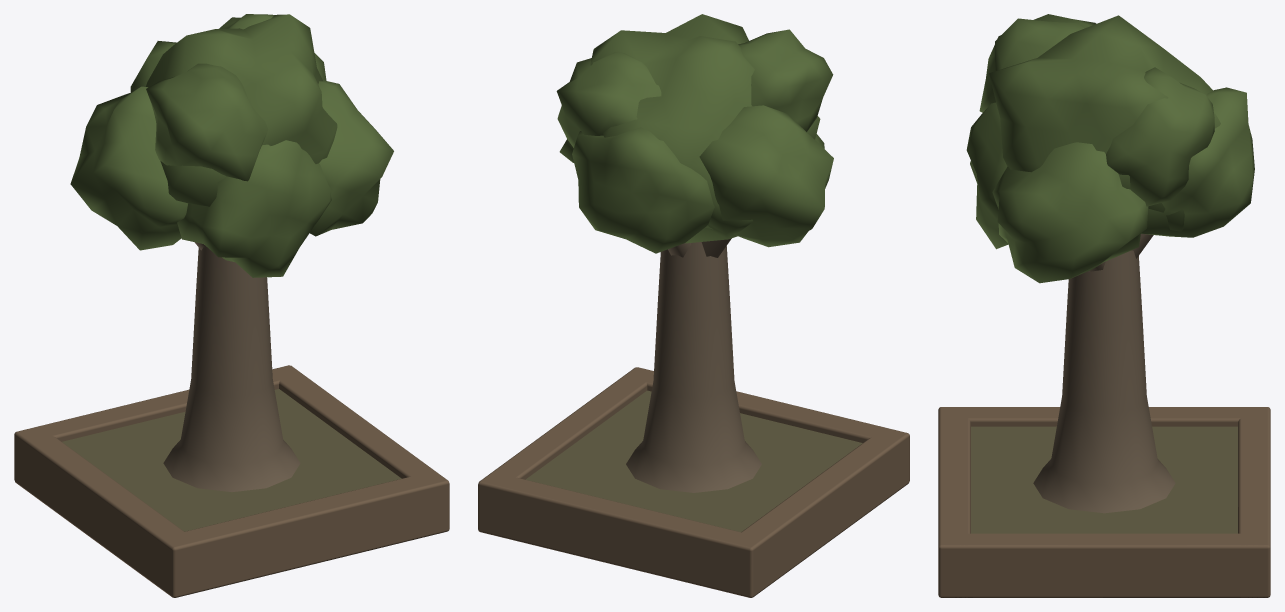
File: oak.glb
3 renders of one model, left to right at view 1: azimuth 30°, elevation 25°; view 2: azimuth 150°, elevation 25°; view 3: azimuth 270°, elevation 25°, orthographic. The views are drawn at different scales.
Visible parts, largest first — view 1: foliage-oak, planks-dark, bark, ground; view 2: foliage-oak, planks-dark, bark, ground; view 3: foliage-oak, planks-dark, bark, ground.
Boxes of the visible parts, left/top/right/bottom form: foliage-oak: left=70, top=14, right=393, bottom=277; planks-dark: left=14, top=365, right=449, bottom=597; bark: left=163, top=242, right=300, bottom=491; ground: left=62, top=389, right=401, bottom=531; foliage-oak: left=556, top=14, right=833, bottom=253; planks-dark: left=478, top=367, right=909, bottom=597; bark: left=626, top=238, right=761, bottom=492; ground: left=526, top=390, right=862, bottom=532; foliage-oak: left=966, top=14, right=1254, bottom=283; planks-dark: left=938, top=407, right=1270, bottom=597; bark: left=1033, top=234, right=1175, bottom=513; ground: left=971, top=426, right=1237, bottom=533.
Size of the model in its own units: 2.1 by 3.35 by 2.04.
